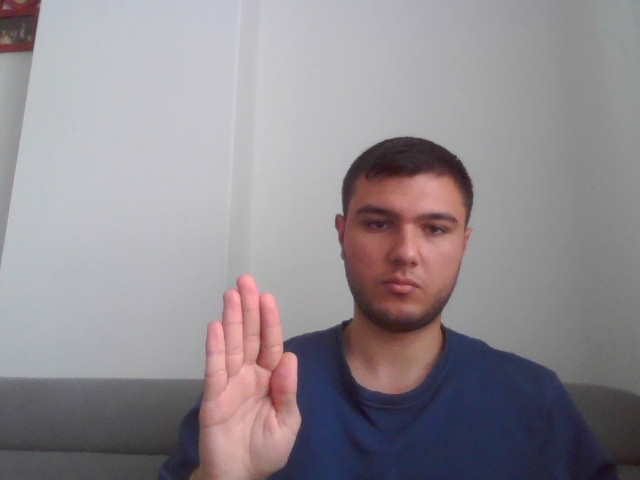Hello: (194, 273, 311, 478)
